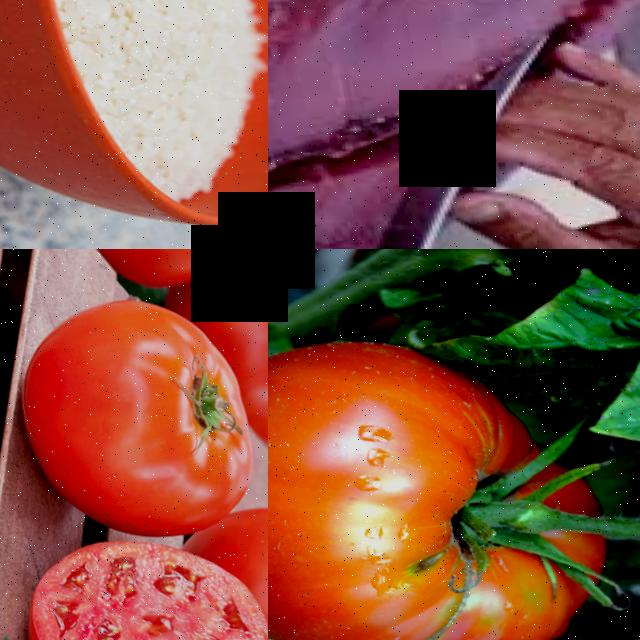tomato: (268, 273, 632, 640), (1, 260, 266, 555), (12, 498, 268, 640)
tuna: (268, 0, 374, 173), (268, 140, 383, 249), (358, 0, 609, 37)
white rice: (46, 0, 261, 184)
